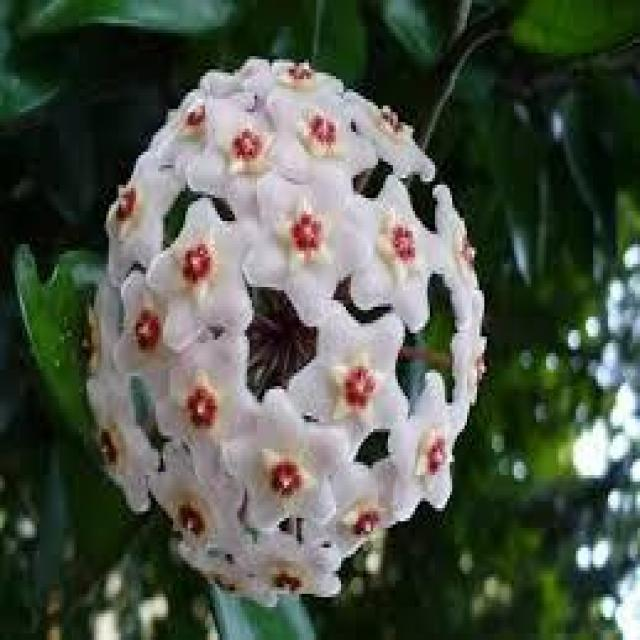organic waste: (98, 56, 498, 564)
